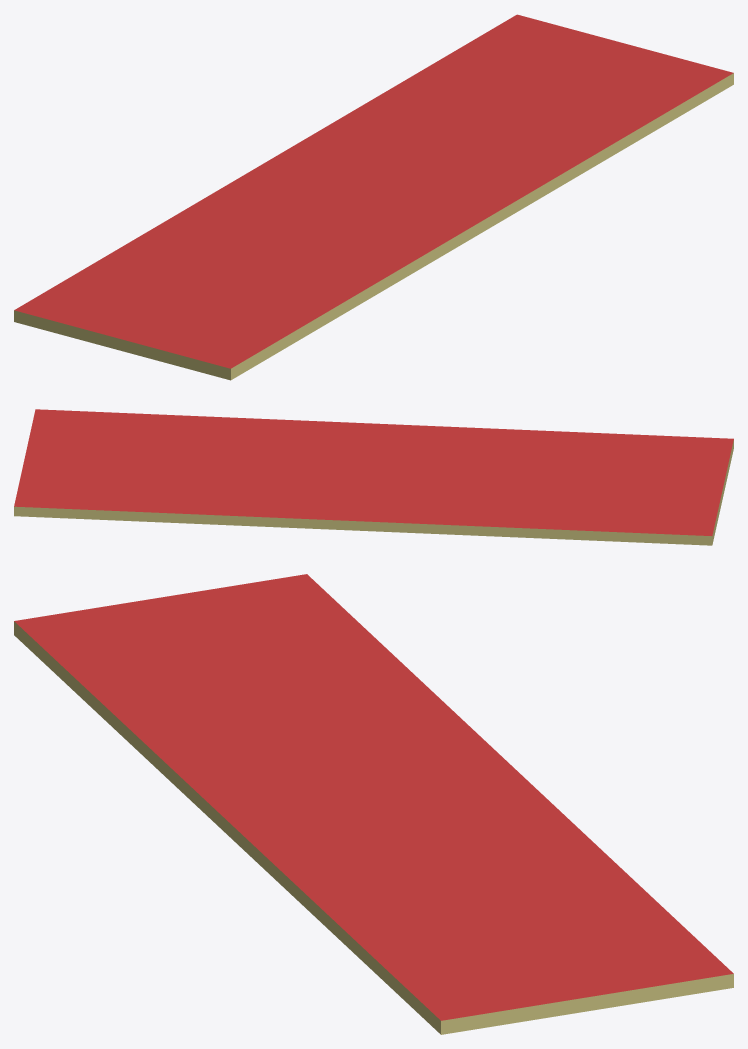
3 views of the same model, one above another, from view 1: azimuth 30°, elevation 25°; view 2: azimuth 150°, elevation 25°; view 3: azimuth 270°, elevation 25° (orthographic). The views are drawn at different scales.
Size of the model in its own units: 6.95 by 4.64 by 0.163.
